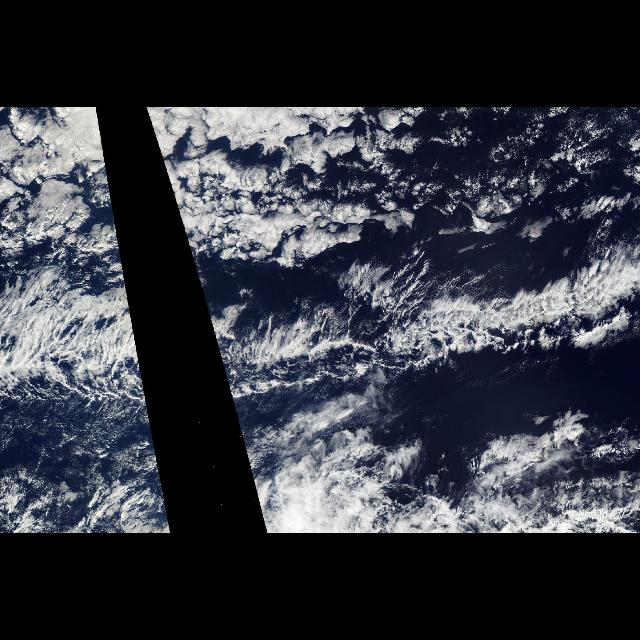Fish: (160, 157, 640, 409), (0, 157, 148, 409)
Flower: (145, 108, 433, 258), (0, 108, 121, 258)
Sugar: (2, 411, 166, 501), (235, 411, 242, 441)
